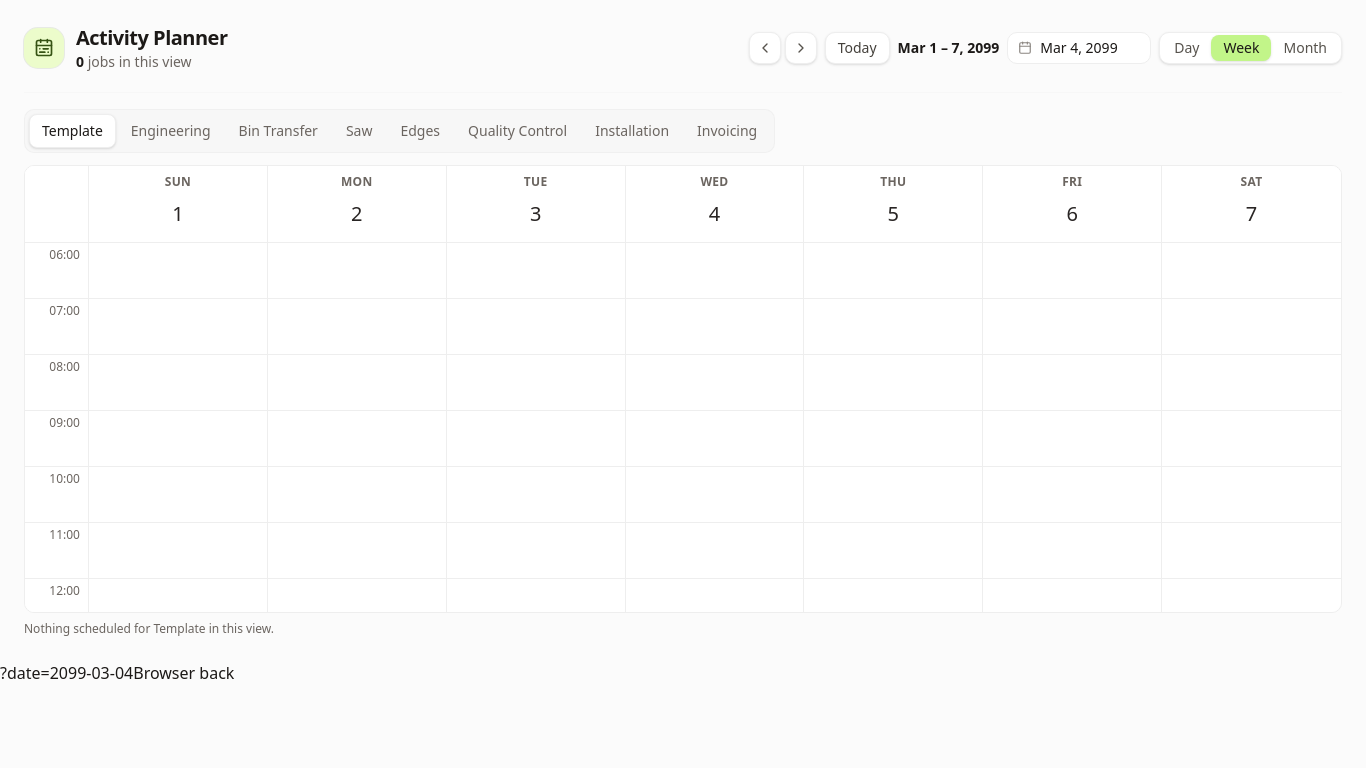
Scenario: ActivityPlannerPage columns and navigation › jumps to the day the date picker chooses
(page scrolled)
Click the button with aria-label "Jump to date" at (1079, 48), box 1007,32 -> 1151,64
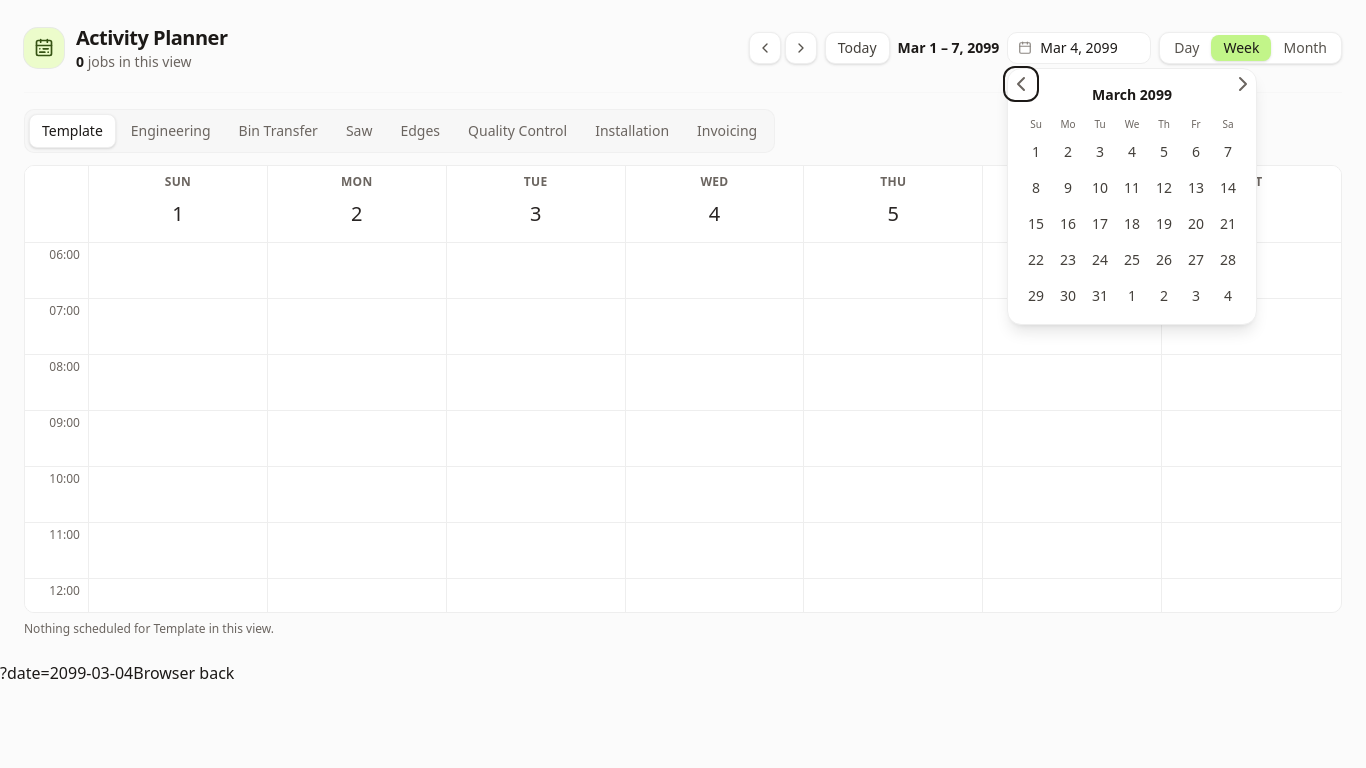
Click the button "20" at (1196, 224), box 1180,208 -> 1212,240
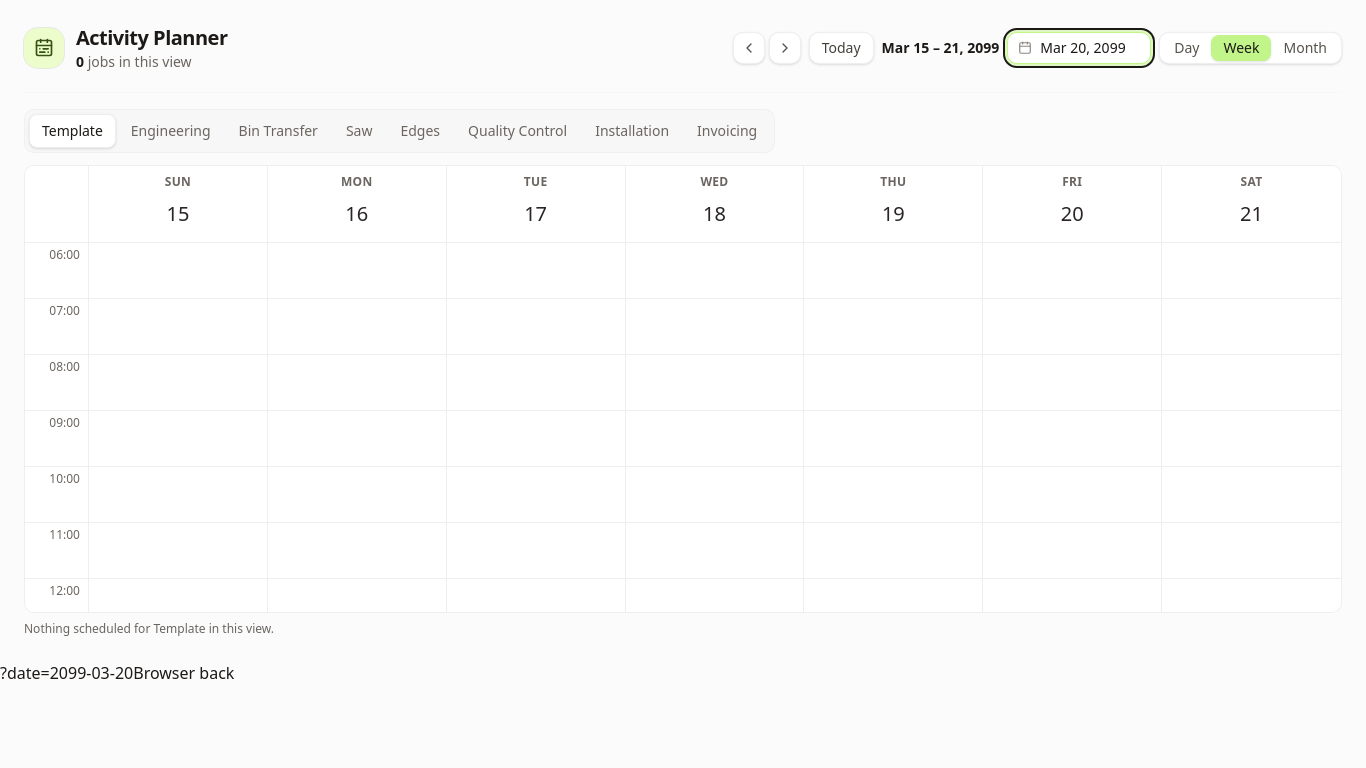
expect the text with test id "search" shows "date=2099-03-20": met, box 0,662 -> 133,684
